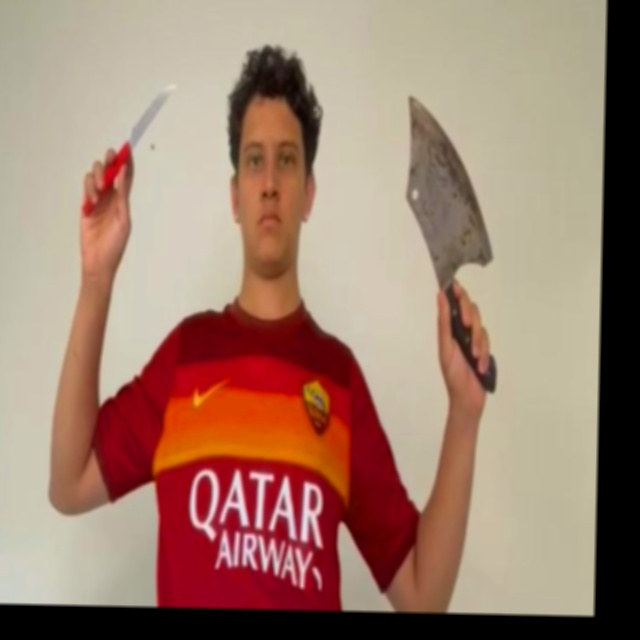Sharp-Object: (403, 95, 500, 275), (128, 78, 179, 148)
